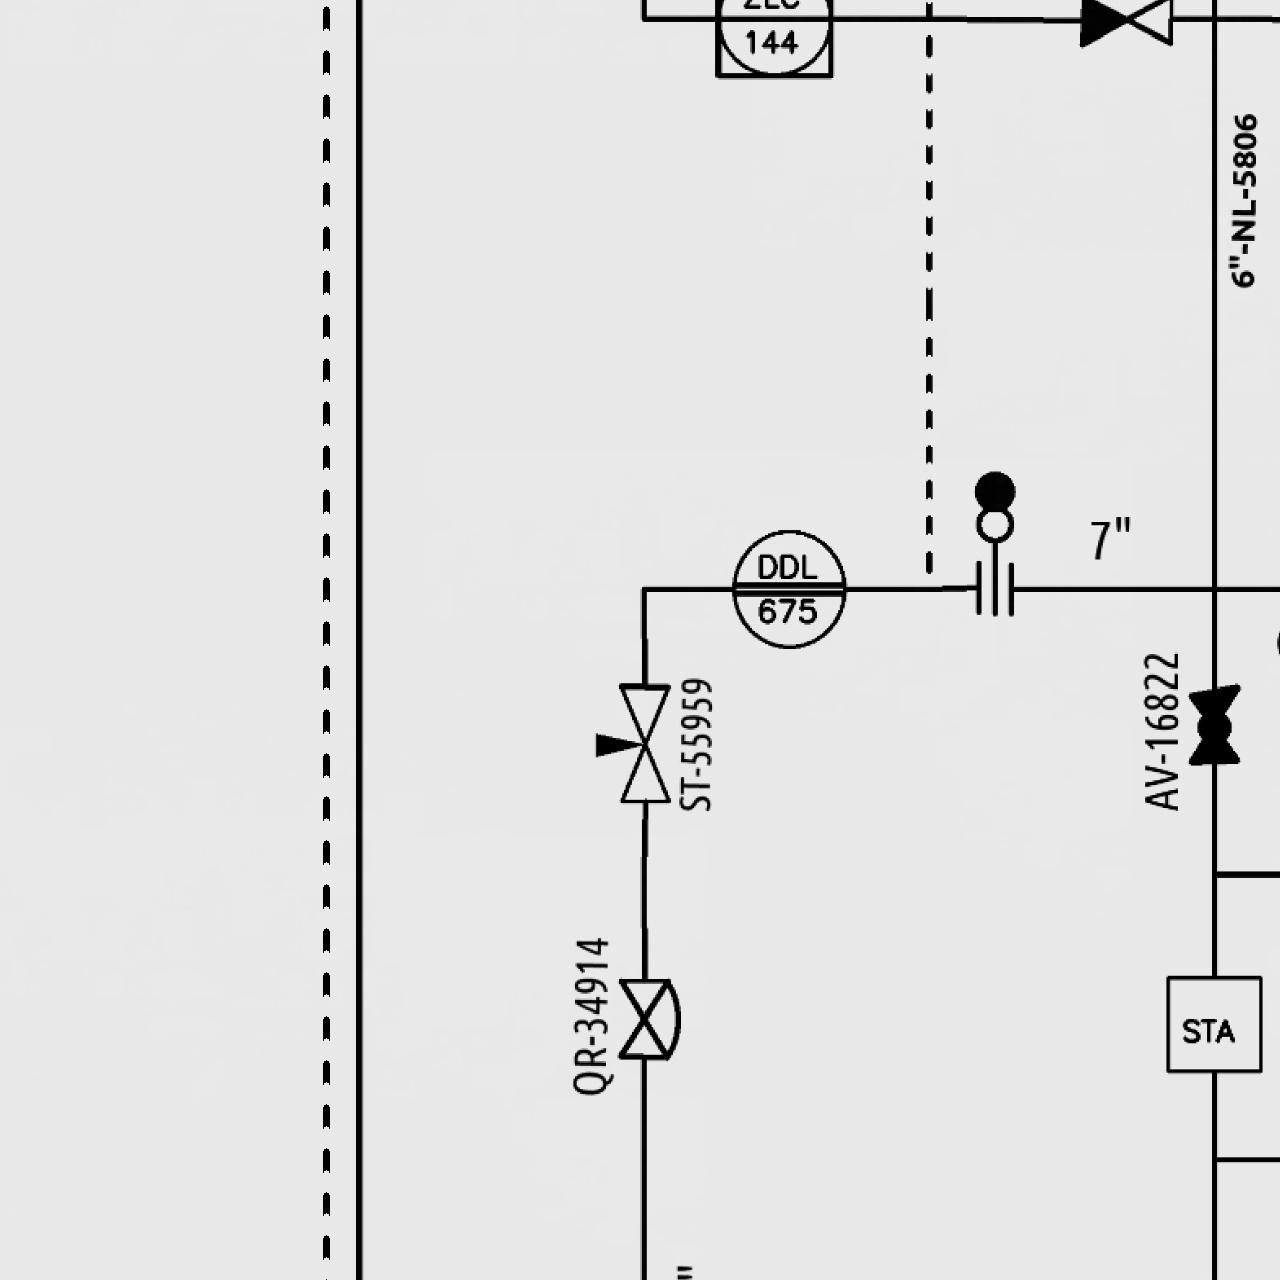Control-Panel: (724, 524, 852, 653)
